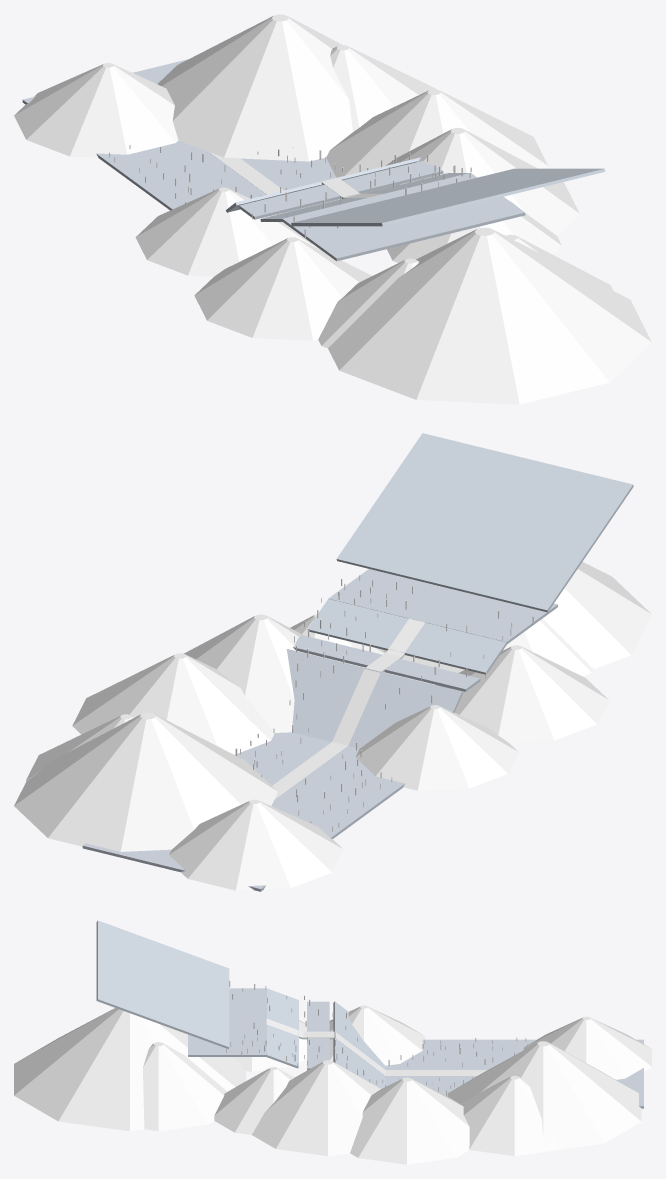
File: terrain_baked.glb
3 renders of one model, top to bottom at view 1: azimuth 30°, elevation 25°; view 2: azimuth 150°, elevation 25°; view 3: azimuth 270°, elevation 25°, orthographic. The views are drawn at different scales.
Visible parts, largest first — view 1: pk_body_3, pk_body_8, pk_body_7, pk_body_10, pk_body_2, pk_body_6, wOutrun, wStartPlat, wUpperMtn, pk_body_0, pk_body_9, wTable (+6 smaller); view 2: wUpperMtn, pk_body_8, pk_body_10, pk_body_2, pk_body_7, wOutrun, pk_body_6, wLanding, wStartPlat, pk_body_3, pk_body_0, wInrun (+6 smaller); view 3: pk_body_3, wUpperMtn, pk_body_8, pk_body_0, pk_body_2, pk_body_4, pk_body_9, wOutrun, pk_body_10, wStartPlat, pk_body_1, pk_body_6 (+5 smaller).
Part boxes in pixels (x1,y1,x2,y2): pk_body_3: (328, 227, 651, 404); pk_body_8: (157, 14, 352, 161); pk_body_7: (194, 237, 371, 340); pk_body_10: (14, 63, 178, 157); pk_body_2: (326, 89, 547, 177); pk_body_6: (135, 187, 312, 276); wOutrun: (22, 59, 340, 213); wStartPlat: (282, 173, 525, 261); wUpperMtn: (291, 168, 605, 226); pk_body_0: (362, 128, 579, 235); pk_body_9: (330, 45, 435, 131); wTable: (239, 161, 443, 219); wUpperMtn: (336, 433, 633, 612); pk_body_8: (14, 712, 277, 851); pk_body_10: (169, 799, 343, 890); pk_body_2: (72, 653, 274, 754); pk_body_7: (435, 645, 609, 742); wOutrun: (82, 732, 404, 891); pk_body_6: (355, 705, 518, 790); wLanding: (286, 649, 462, 748); wStartPlat: (328, 569, 557, 644); pk_body_3: (383, 562, 651, 672); pk_body_0: (183, 614, 335, 732); wInrun: (307, 599, 506, 674); pk_body_3: (14, 1008, 245, 1131); wUpperMtn: (96, 920, 229, 1049); pk_body_8: (447, 1041, 641, 1149); pk_body_0: (252, 1060, 381, 1156); pk_body_2: (350, 1077, 469, 1164); pk_body_4: (143, 1042, 227, 1131); pk_body_9: (459, 1075, 560, 1156); wOutrun: (385, 1039, 643, 1108); pk_body_10: (523, 1016, 651, 1079); wStartPlat: (188, 988, 266, 1056); pk_body_1: (214, 1067, 294, 1134); pk_body_6: (329, 1005, 425, 1065).
Bounding box in the file's own units: 253 × 89.5 × 444.
